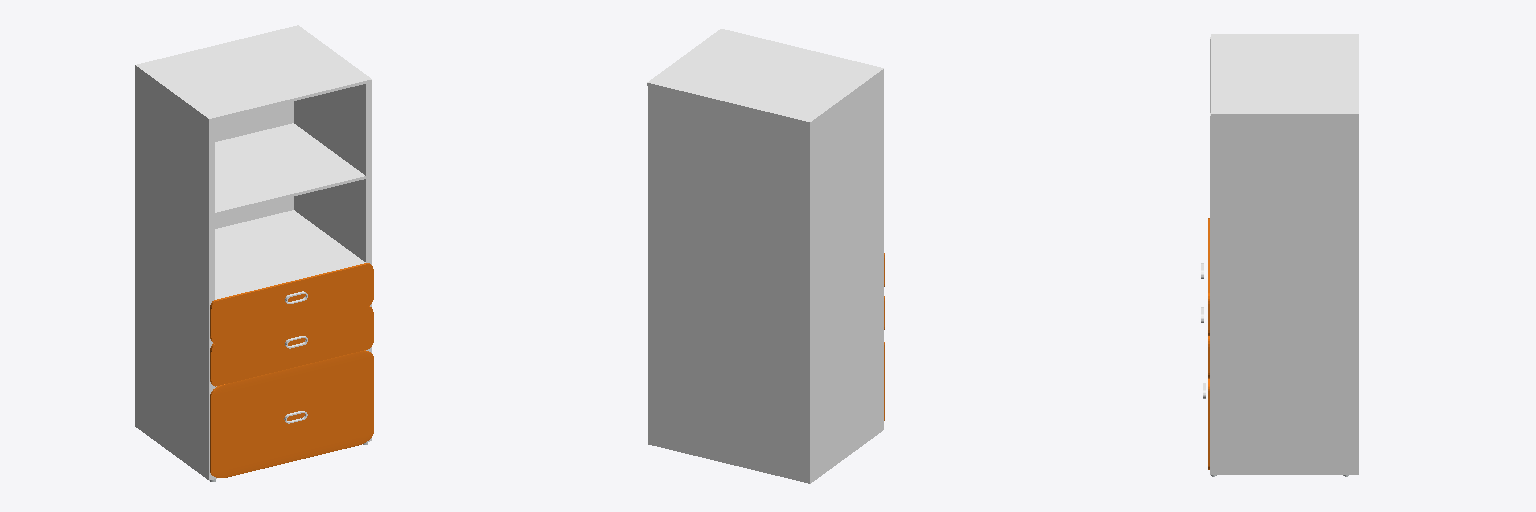
The model's file is StorageFurniture_StuvaFritidsBookcaseOrange.obj.
3 views of the same model, side by side, from view 1: azimuth 30°, elevation 25°; view 2: azimuth 150°, elevation 25°; view 3: azimuth 270°, elevation 25° (orthographic).
Parts seen in each view (by area): view 1: obj_0; view 2: obj_0; view 3: obj_0.
Boxes of the visible parts, x1,y1,x2,y2 form: obj_0: [135, 25, 373, 481]; obj_0: [647, 29, 884, 483]; obj_0: [1201, 34, 1358, 476].
Size of the model in its own units: 60 by 128 by 50.